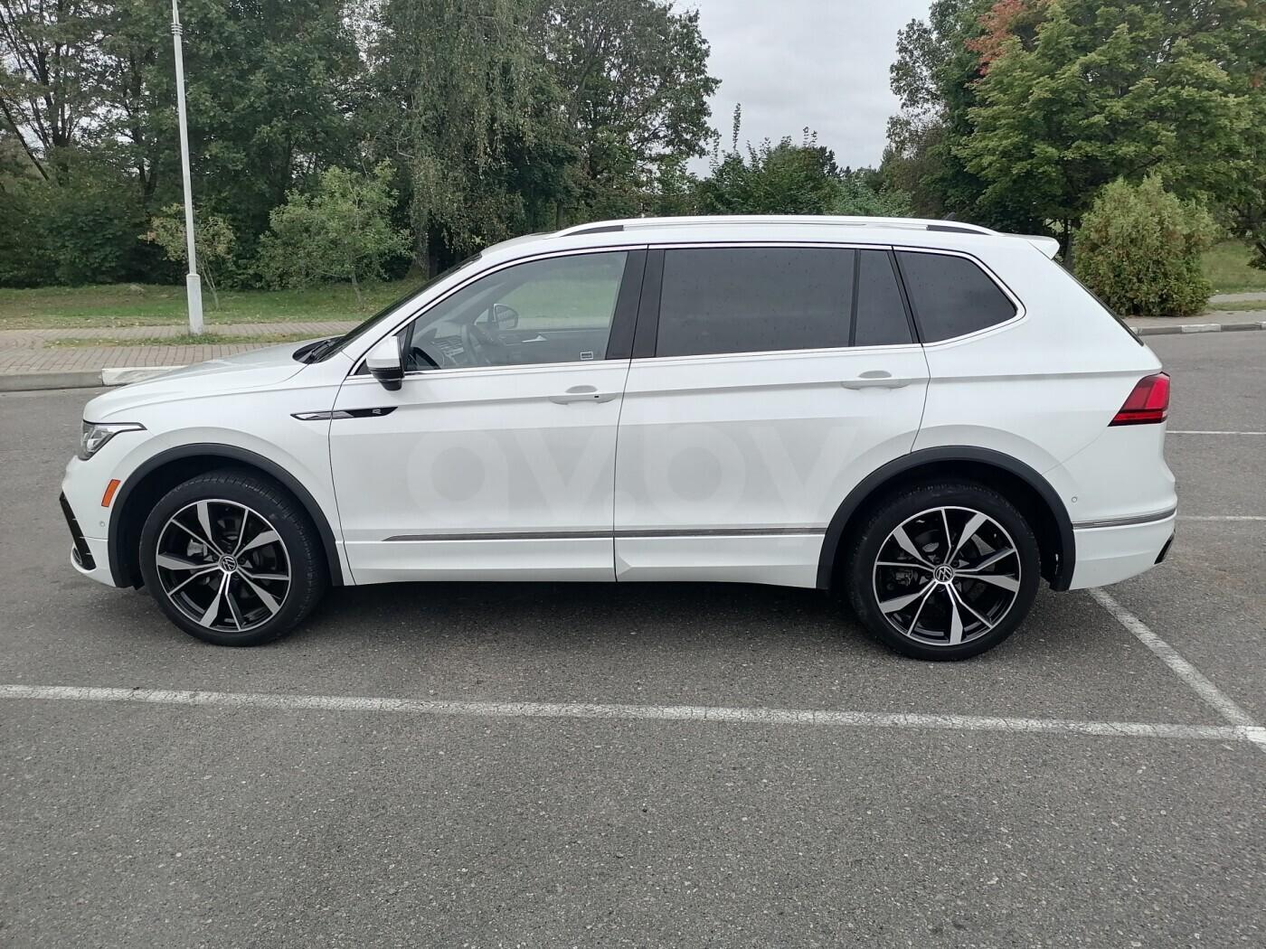Tiguan_2020-2024: (53, 212, 1183, 660)
